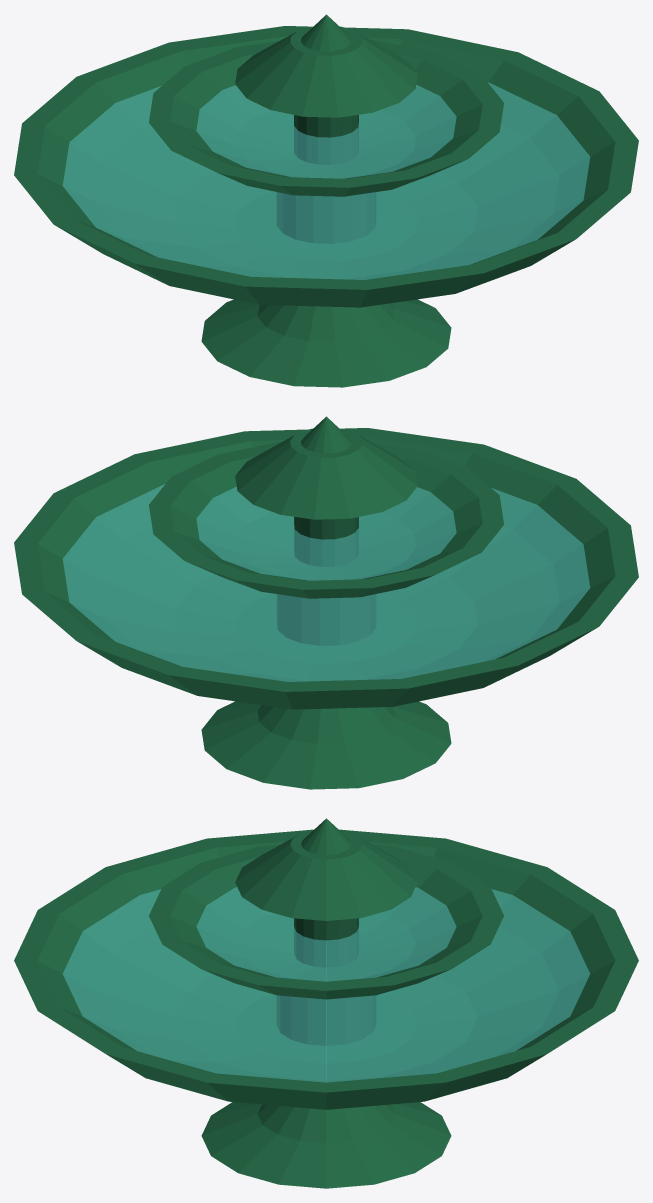
The model's file is FountainOfPraise.fbx.
The picture shows the model from 3 angles, top to bottom: view 1: azimuth 30°, elevation 25°; view 2: azimuth 150°, elevation 25°; view 3: azimuth 270°, elevation 25°; orthographic projection.
Visible parts, largest first — view 1: Shop; view 2: Shop; view 3: Shop.
Part boxes in pixels (x1,y1,x2,y2): Shop: (14,14,638,387); Shop: (14,416,638,789); Shop: (14,818,638,1188).
Bounding box in the file's own units: 5 × 2.8 × 5.
